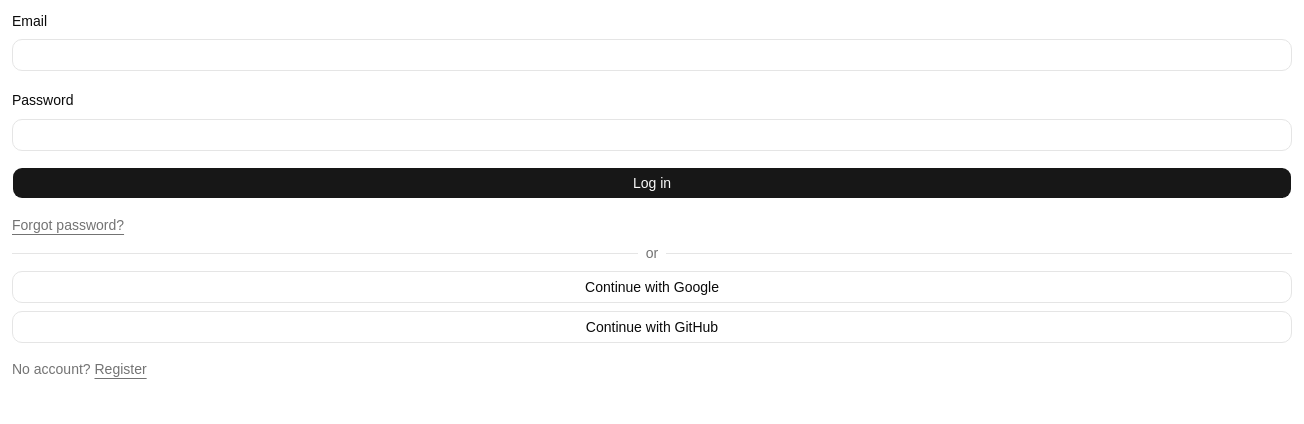
Test: LoginForm › maps server field errors onto inputs
The image size is (1304, 424).
In the field labelled "Email": [652, 55] box [12,39,1292,71], type "taken@example.com"
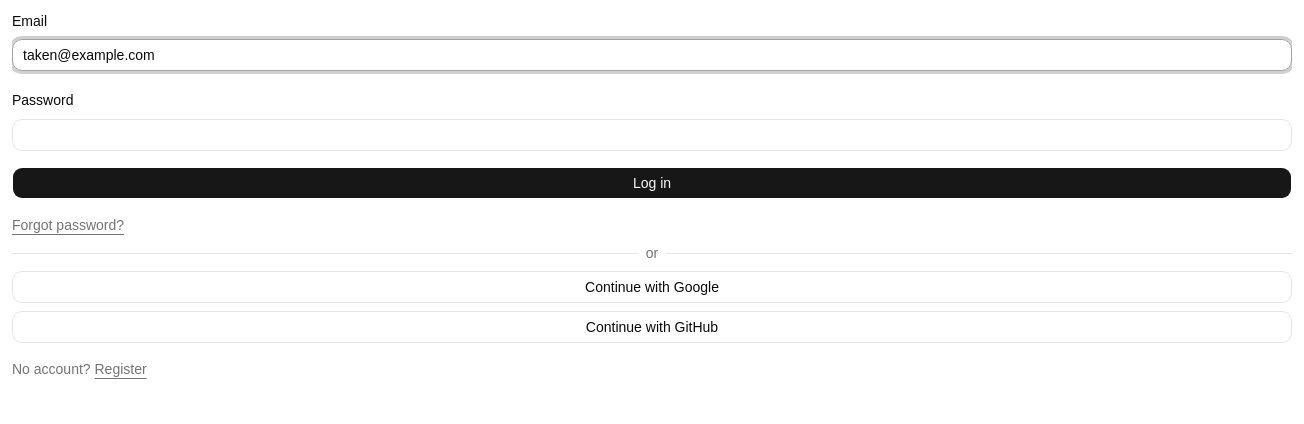
In the password field labelled "Password": [652, 134] box [12,118,1292,150], type "password12"
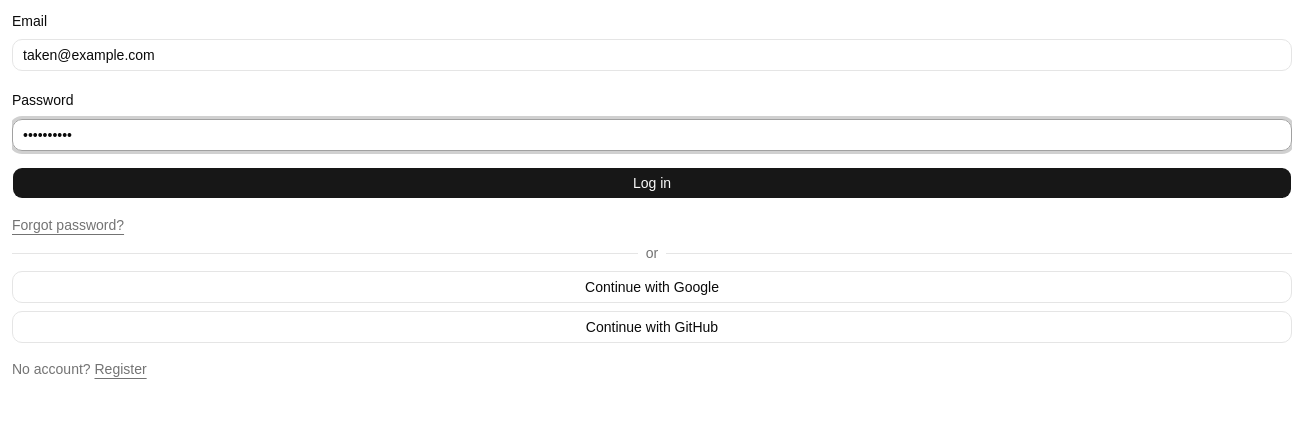
Click the button "Log in": [652, 182] box [12,166,1292,198]
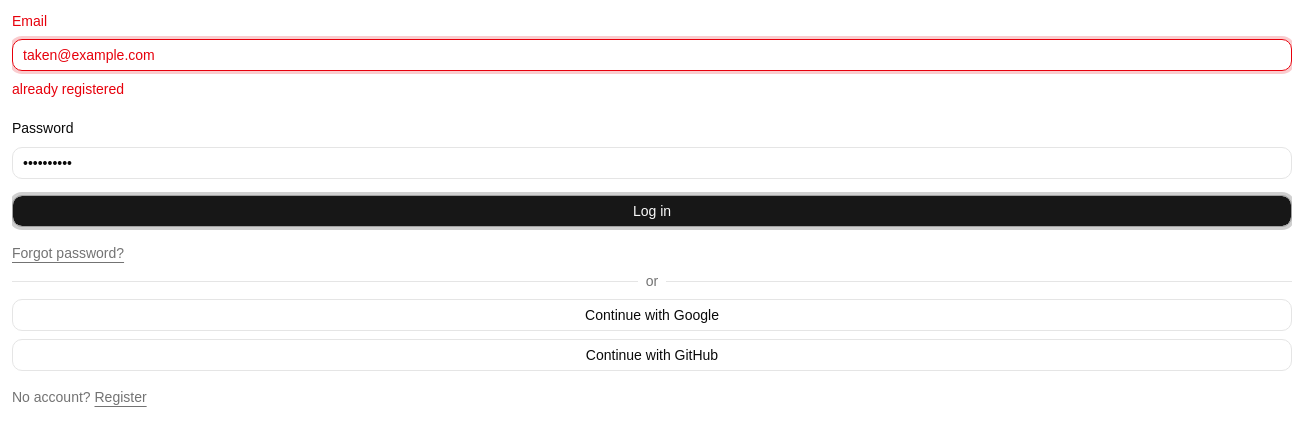
Now the text "already registered" is shown, box [12,81,124,97]
